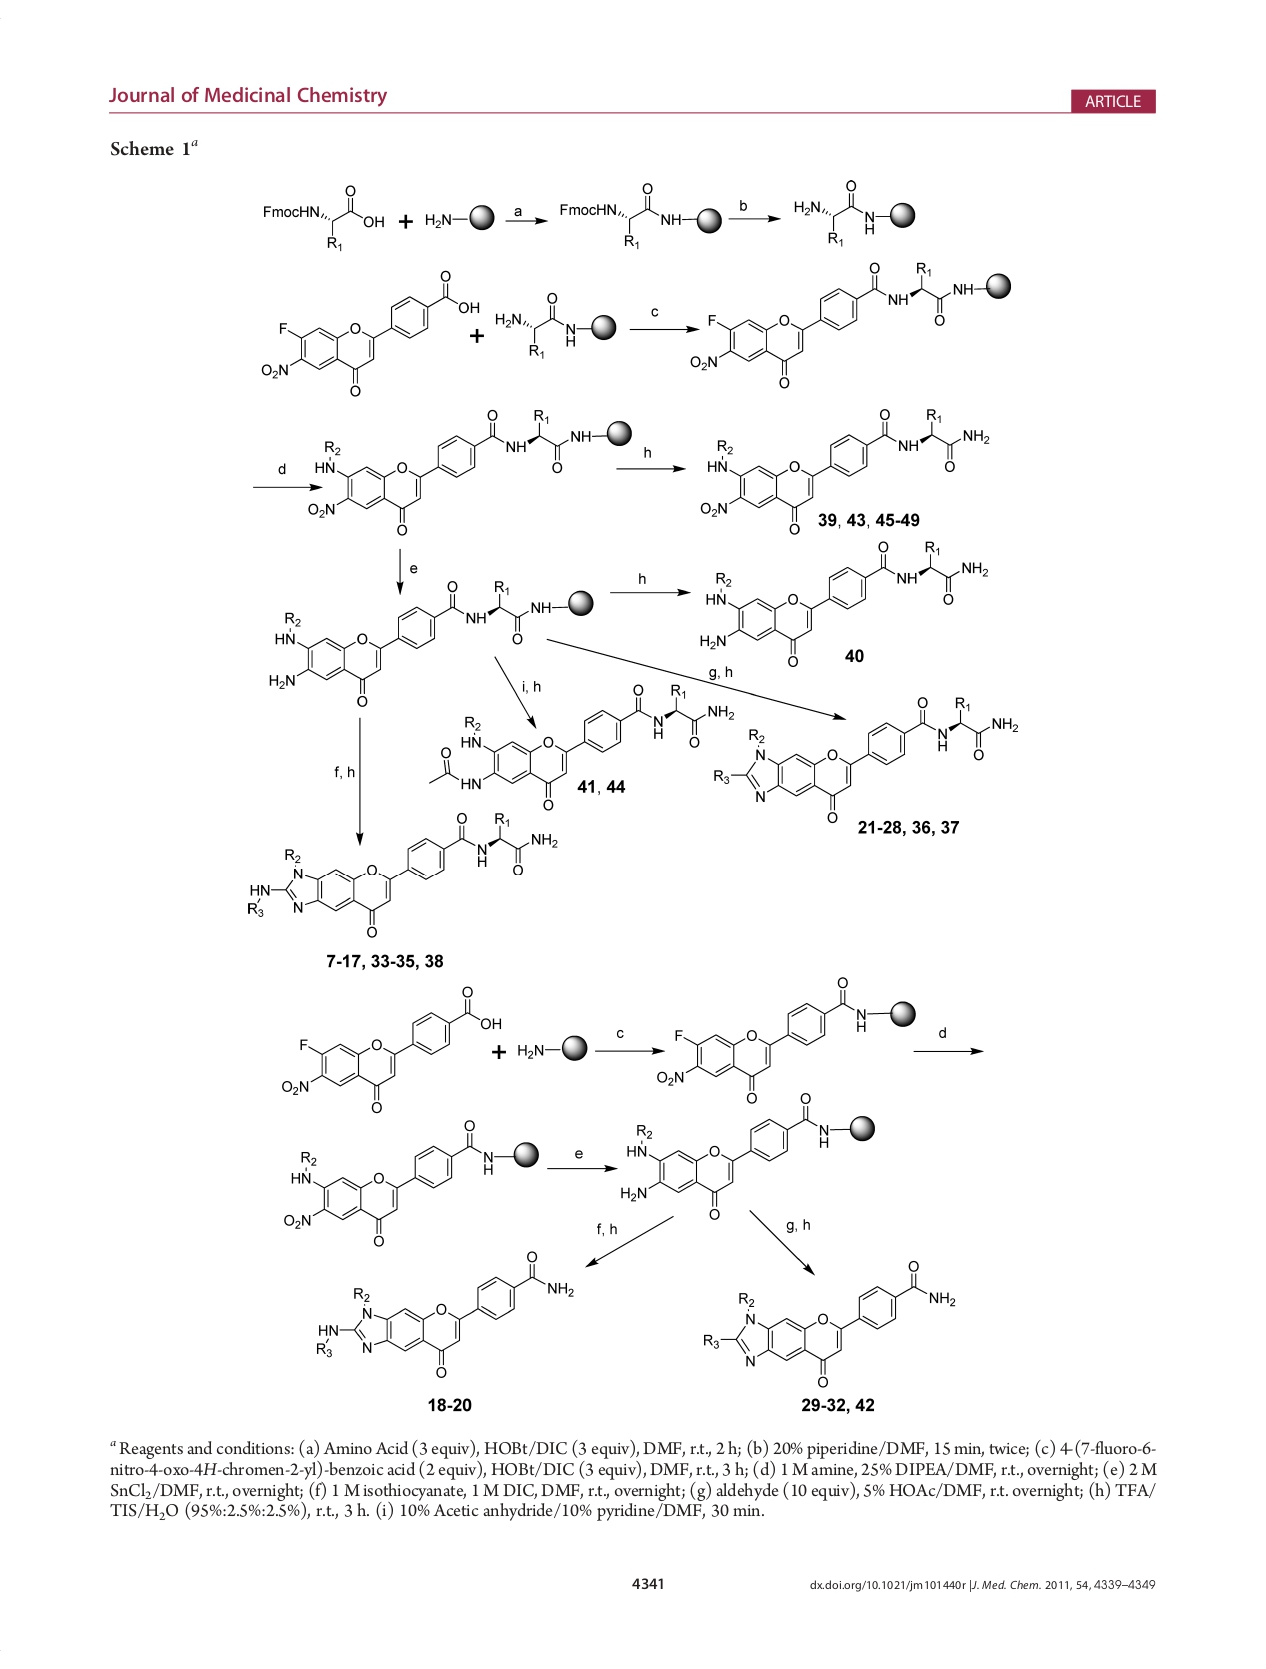exist_molecular: (301, 407, 633, 539), (263, 577, 594, 707), (241, 809, 559, 942), (689, 261, 1015, 390), (426, 680, 735, 810), (711, 696, 1019, 825), (697, 406, 989, 539), (696, 539, 989, 670), (654, 973, 919, 1105), (315, 1249, 578, 1380), (610, 1091, 878, 1220), (281, 1117, 541, 1247), (702, 1259, 957, 1388), (278, 983, 504, 1114), (257, 269, 481, 399), (559, 176, 722, 255), (492, 285, 620, 362), (261, 178, 387, 254), (789, 177, 918, 247), (420, 202, 500, 237), (515, 1031, 592, 1064)
